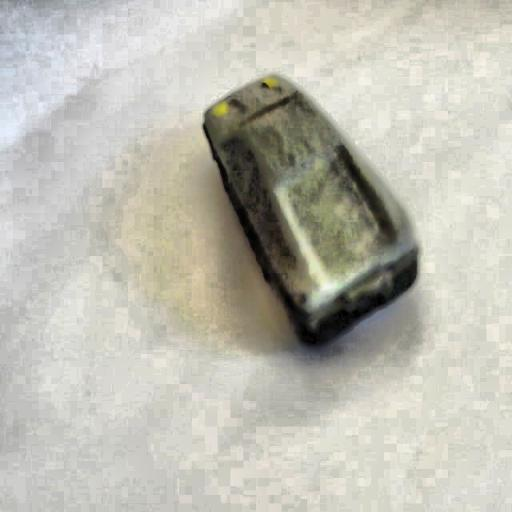normal_car: (197, 70, 423, 351)
